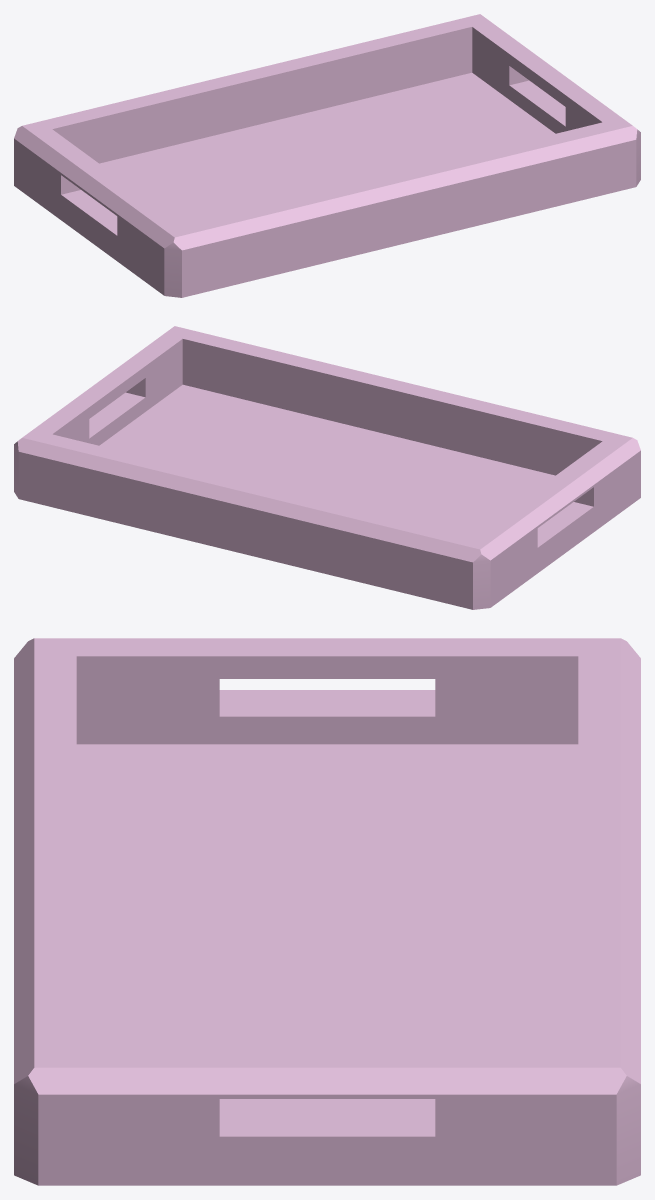
Rendered from teps.fbx.
The picture shows the model from 3 angles, top to bottom: view 1: azimuth 30°, elevation 25°; view 2: azimuth 150°, elevation 25°; view 3: azimuth 270°, elevation 25°; orthographic projection. The views are drawn at different scales.
Visible parts, largest first — view 1: Cube; view 2: Cube; view 3: Cube.
Boxes of the visible parts, x1,y1,x2,y2 form: Cube: (14, 14, 640, 297); Cube: (14, 326, 640, 609); Cube: (14, 638, 640, 1185).
Bounding box in the file's own units: 611 × 69.84 × 362.
